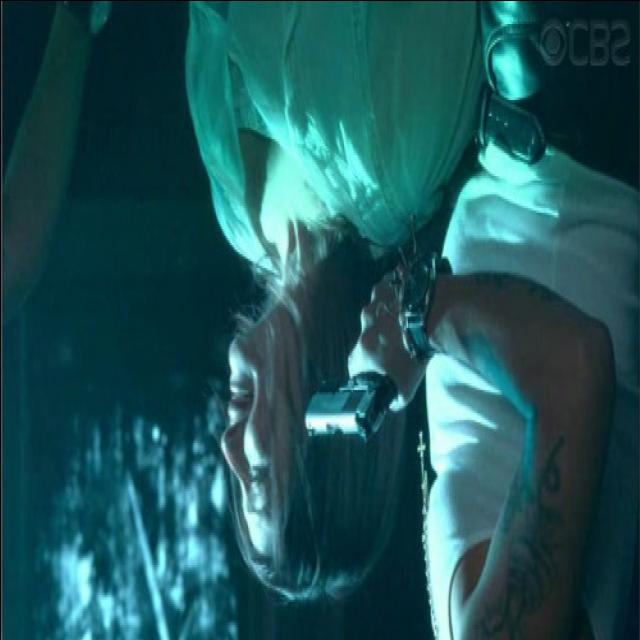weapons: (297, 294, 417, 458)
